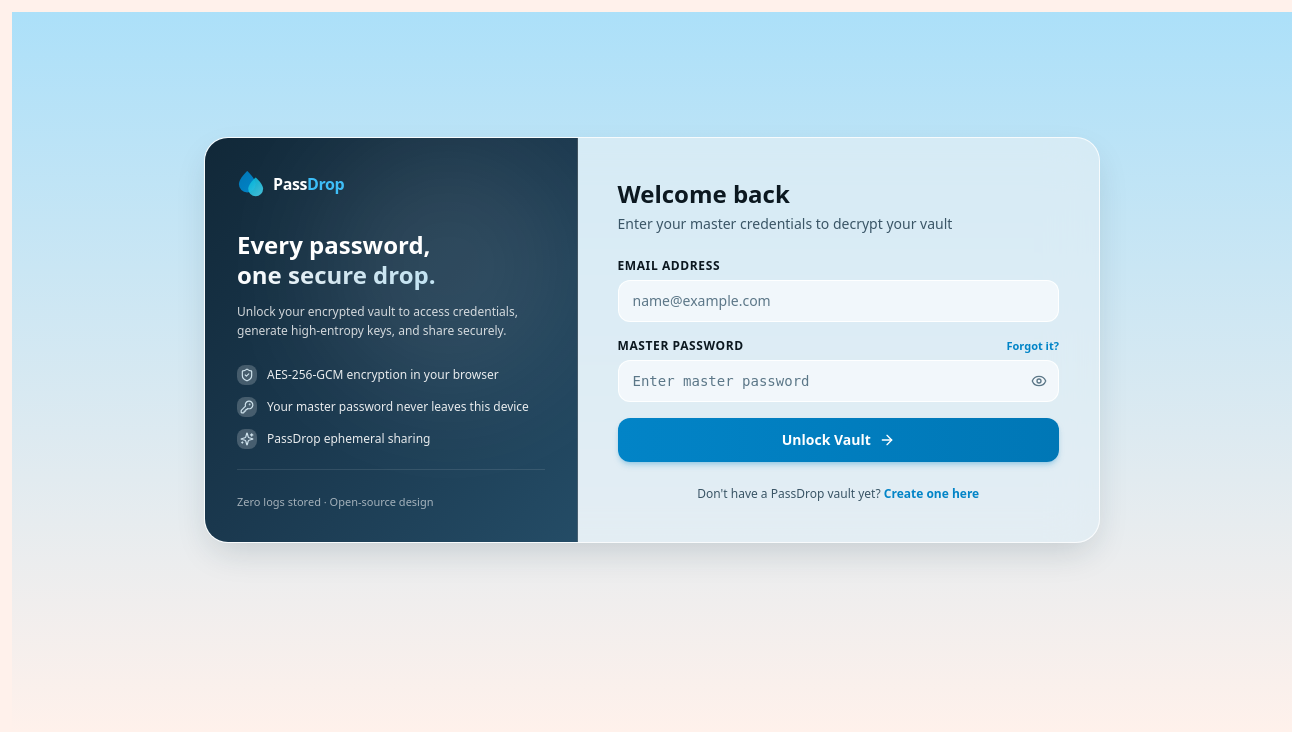
Test case: Login › signing in stores the token, user id and vault key, then opens the vault
The width and height of the screenshot is (1292, 732).
Type "me@example.com" into the field labelled "Email address". click: (838, 301)
box: 618,280 -> 1059,322
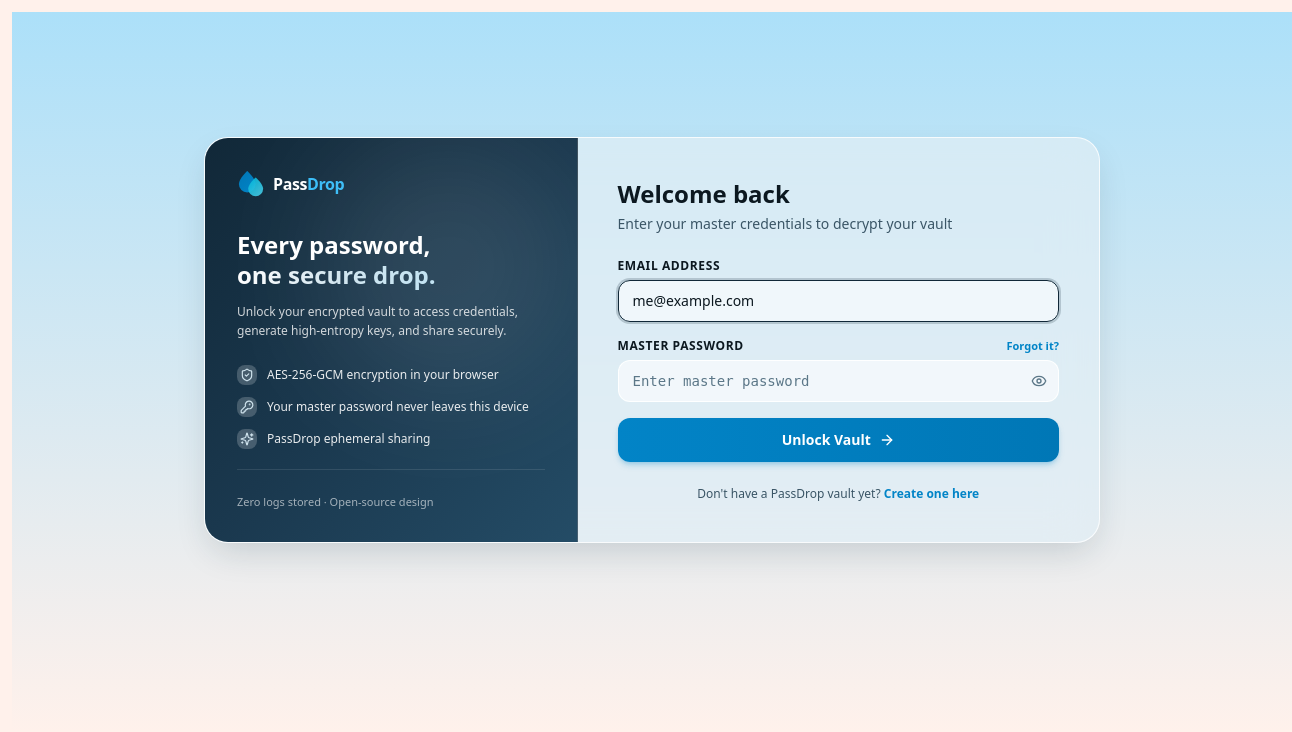
Type "hunter2-hunter2" into the password field labelled "Master Password". click: (838, 381)
box: 618,360 -> 1059,402
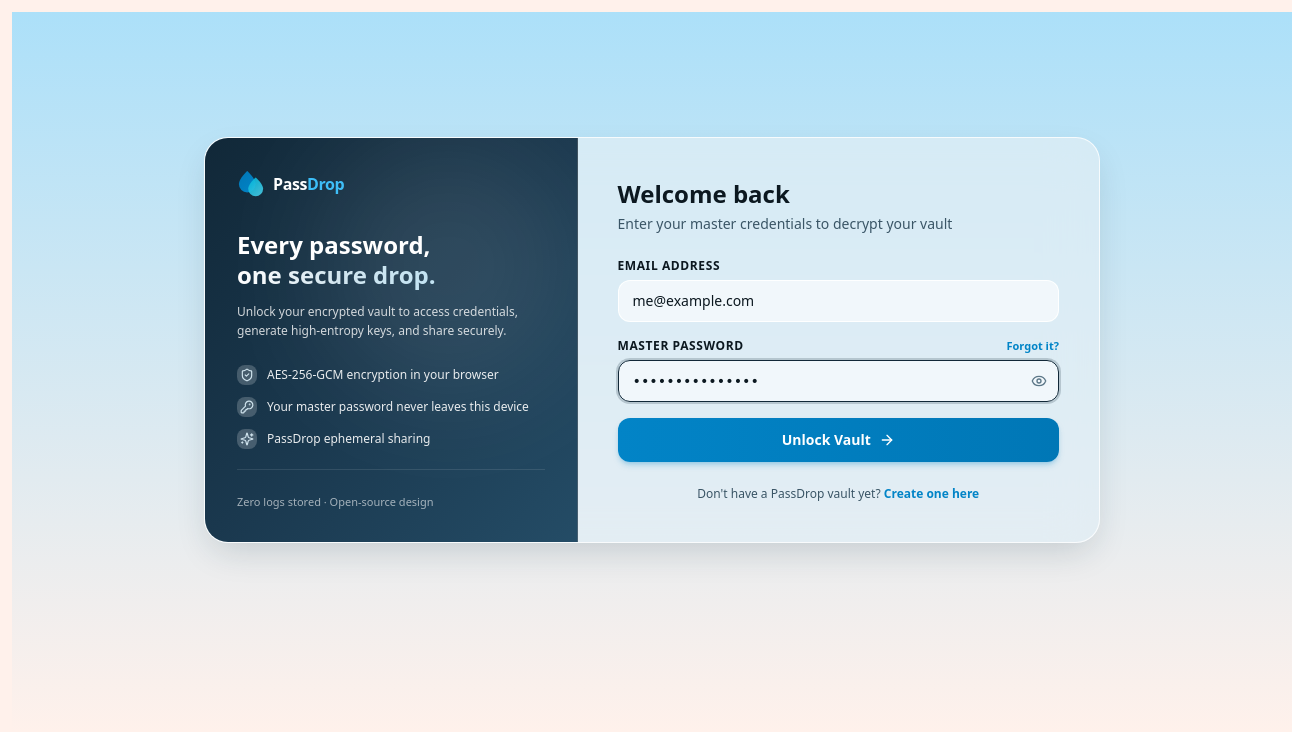
Click the button "Unlock Vault". click: (838, 440)
box: 618,418 -> 1059,462
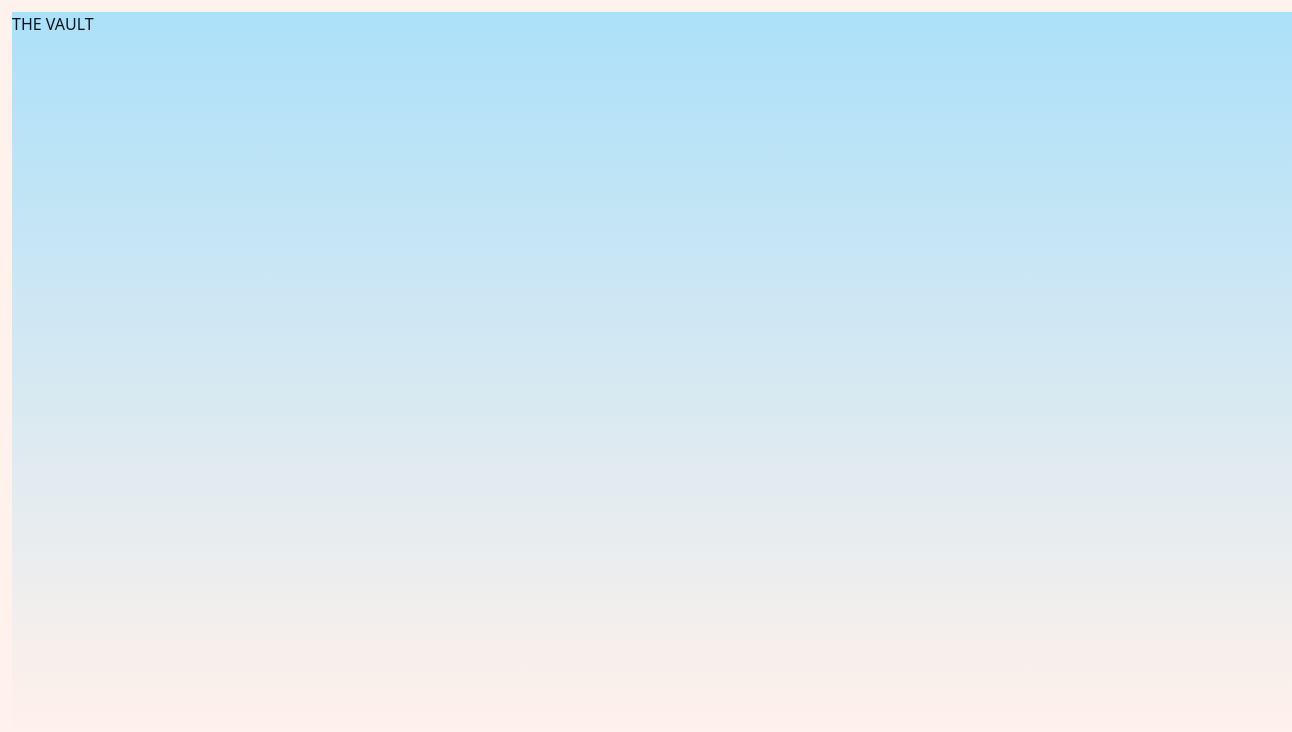
Check: the text "THE VAULT" is shown, box 12,13 -> 94,35
